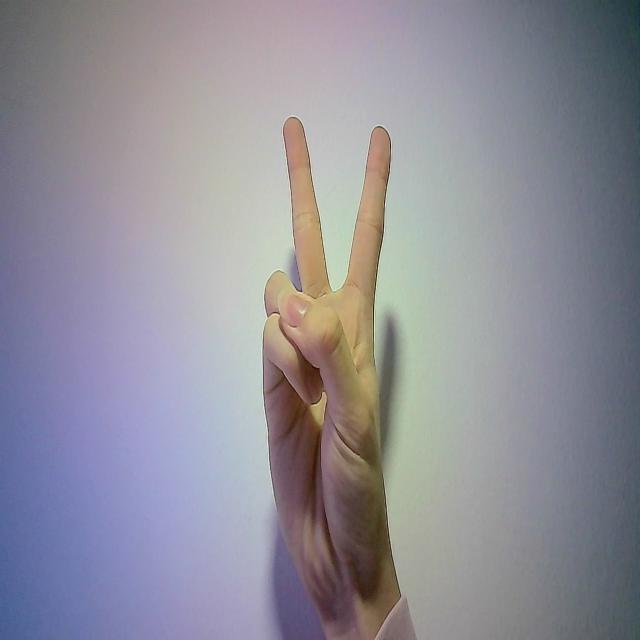V: (240, 102, 414, 573)
